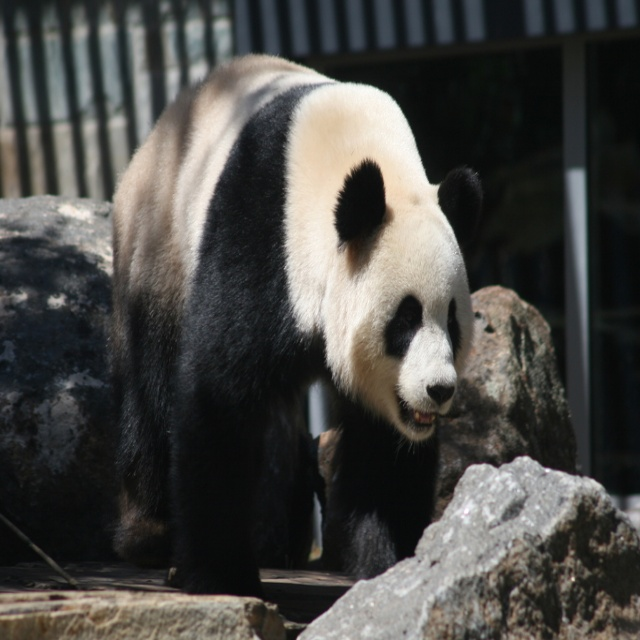Panda: (109, 55, 485, 594)
